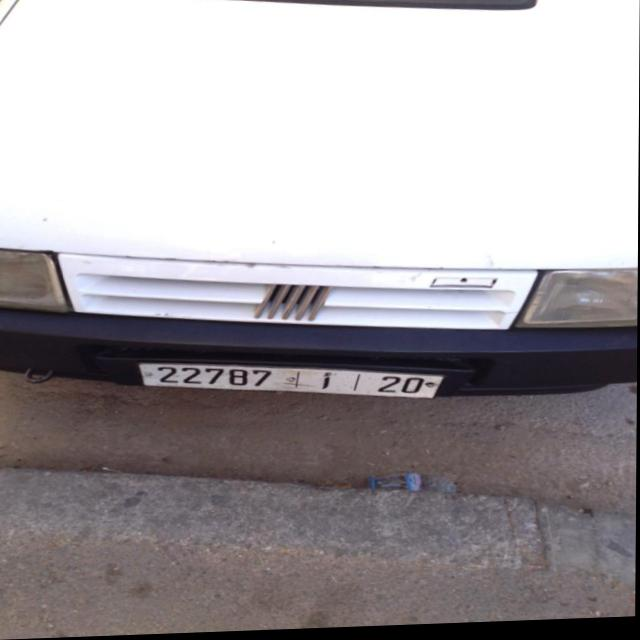License-Plate: (140, 363, 444, 402)
